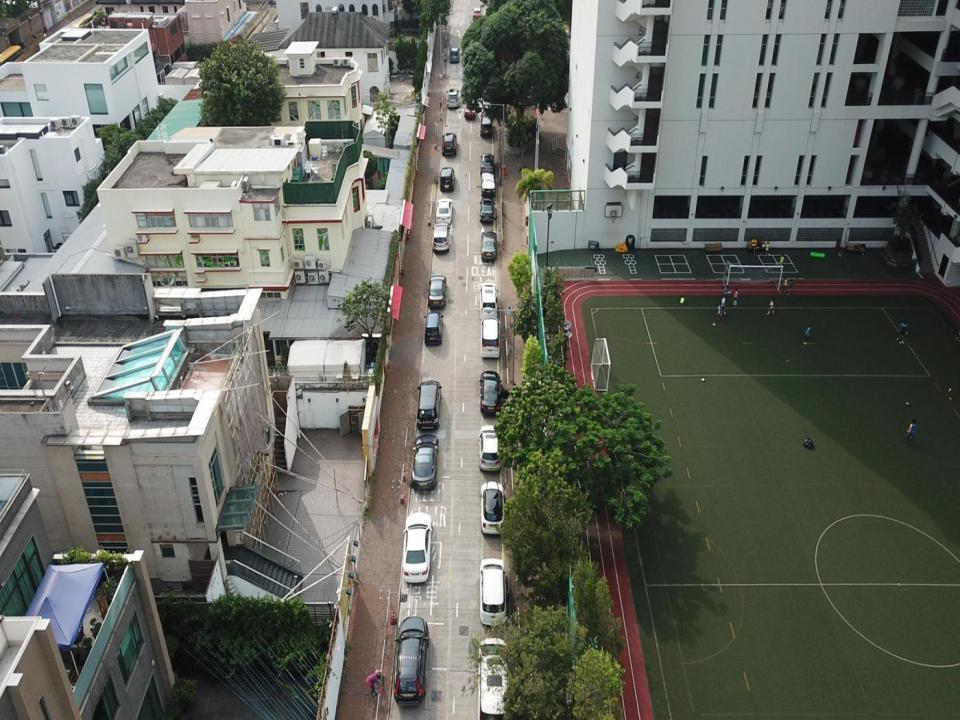car: (479, 638, 508, 719), (402, 511, 431, 584), (480, 558, 505, 626), (412, 434, 438, 489), (481, 481, 504, 536), (480, 367, 502, 415), (479, 426, 500, 472), (429, 273, 447, 308), (480, 230, 496, 262), (434, 221, 448, 255), (436, 196, 452, 225), (479, 197, 496, 222), (480, 172, 496, 198), (465, 86, 476, 117), (481, 151, 494, 176), (480, 109, 492, 134), (449, 46, 460, 65), (448, 87, 457, 107), (472, 7, 482, 25)
van: (396, 618, 428, 704), (417, 381, 441, 429), (482, 315, 499, 359), (424, 312, 444, 346), (479, 283, 497, 317), (440, 167, 454, 193), (443, 132, 455, 152)
